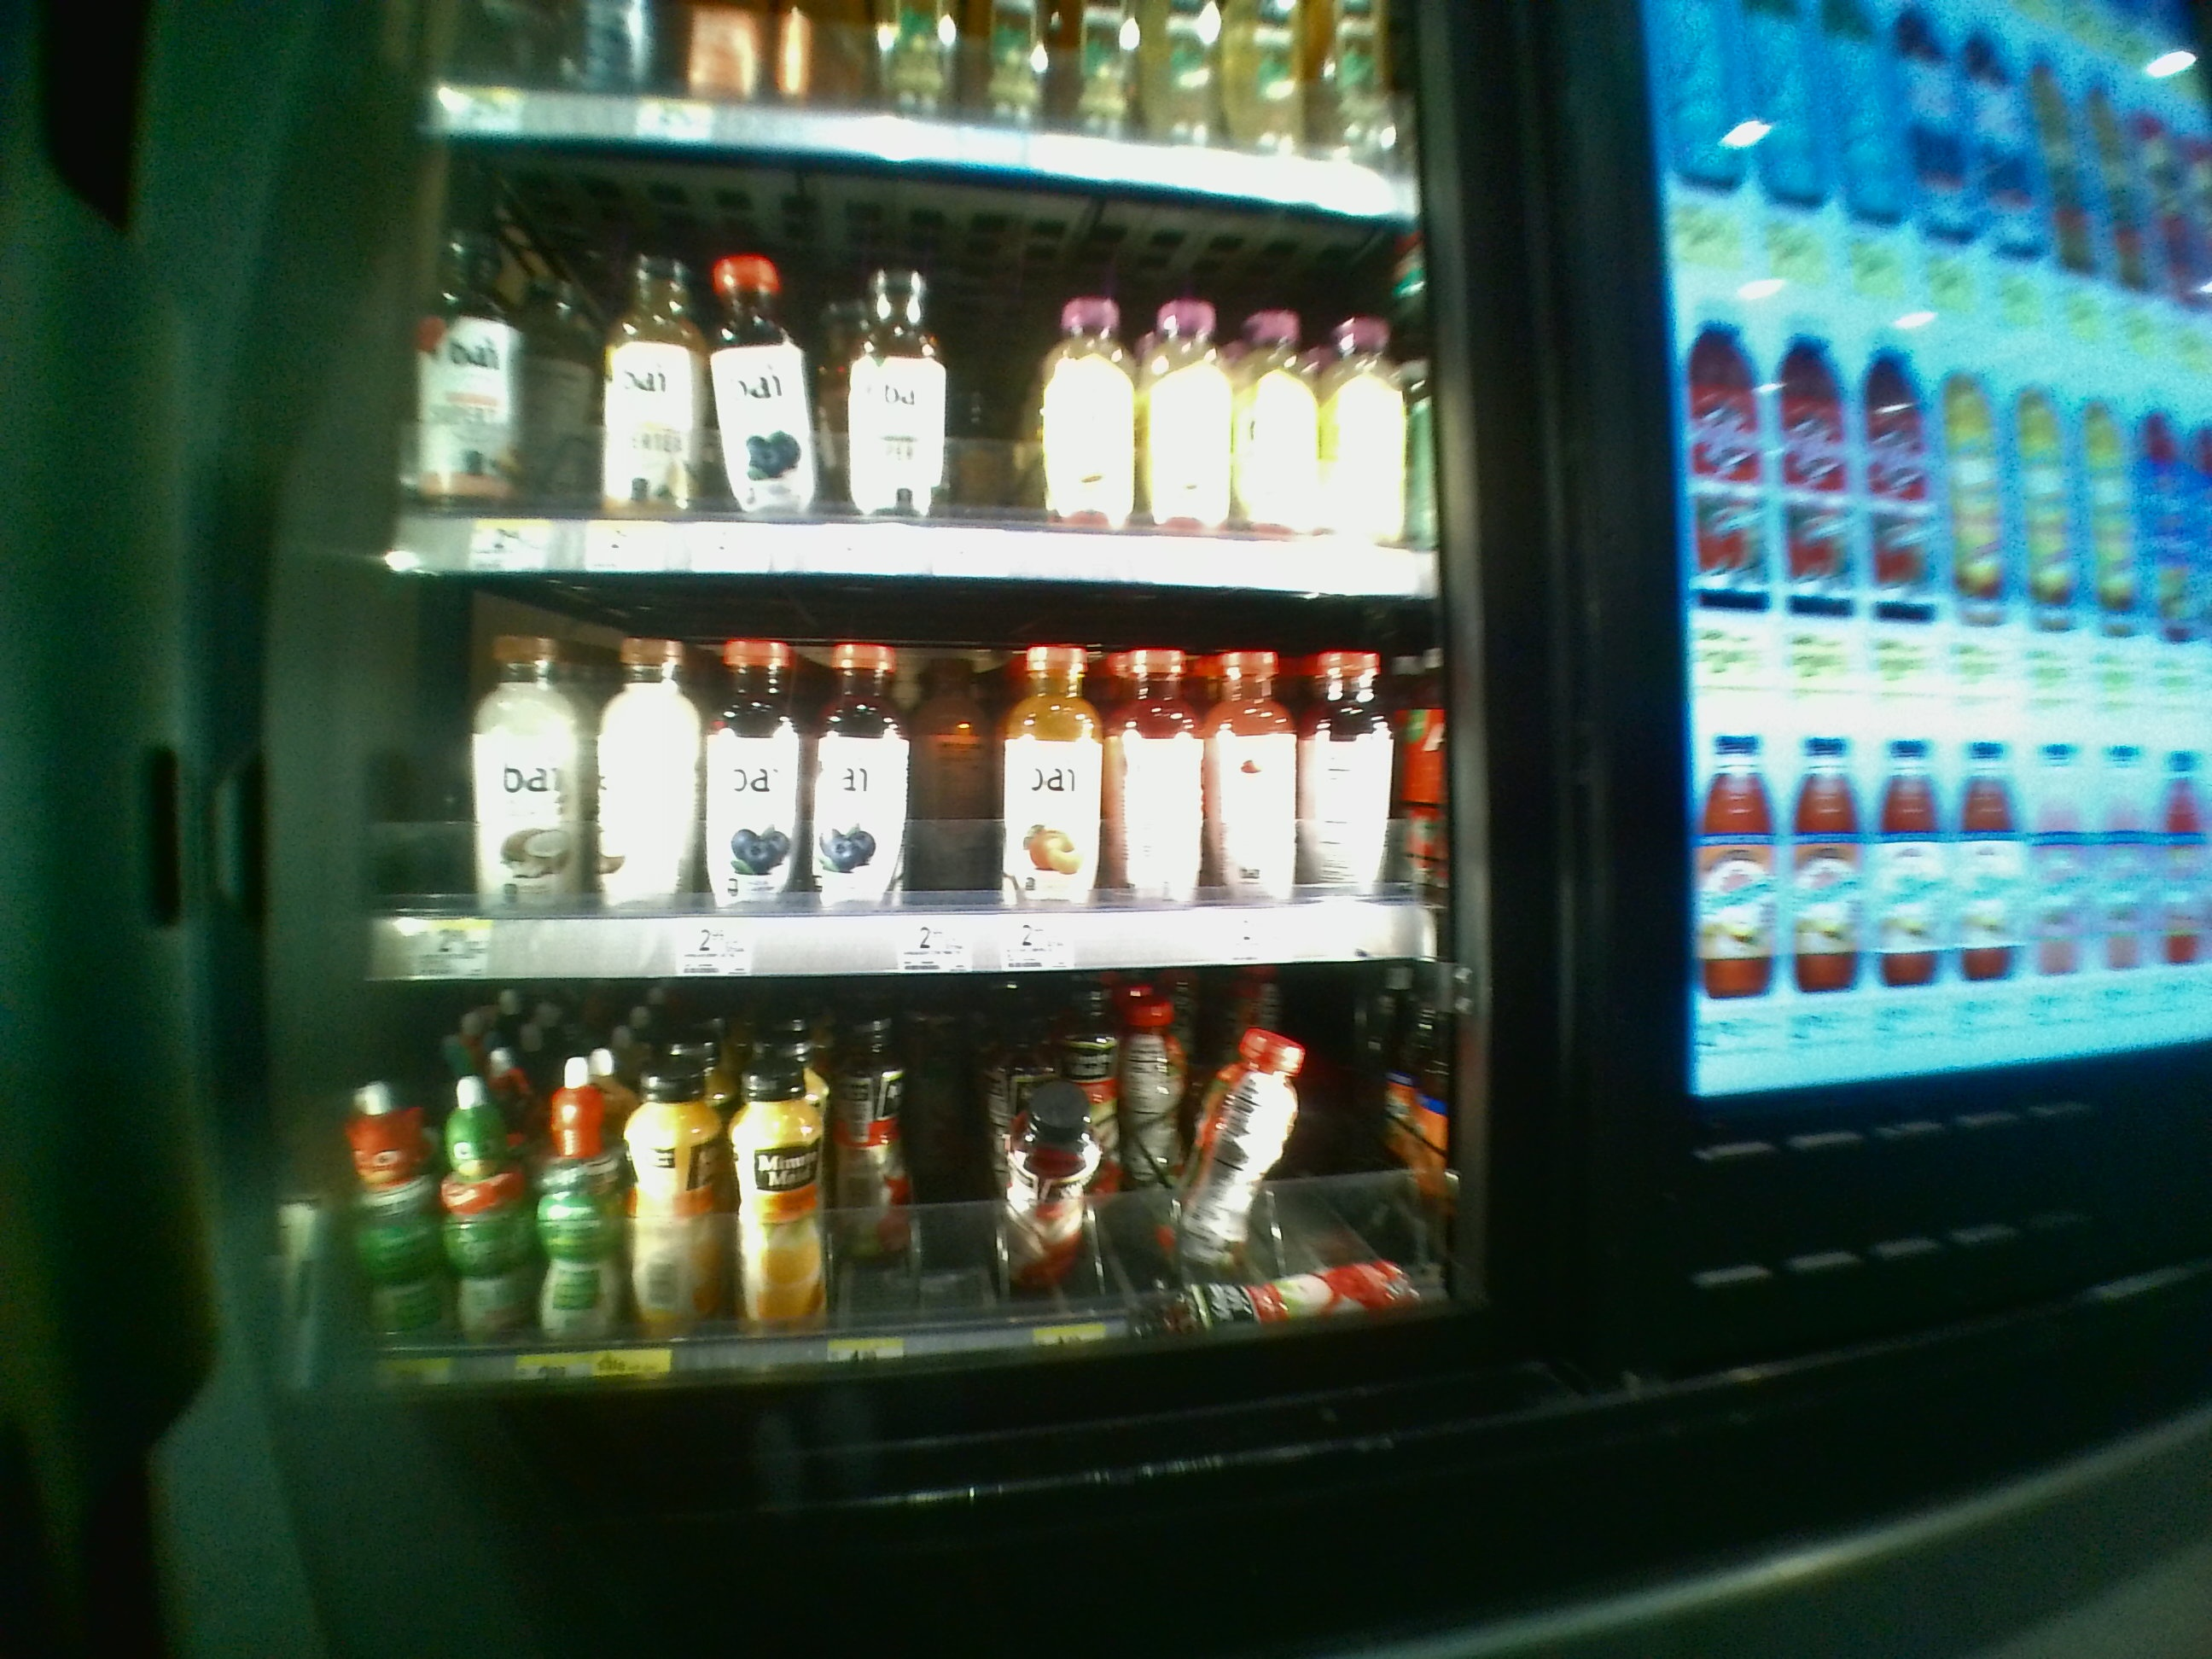shelf: (364, 139, 1446, 582), (354, 997, 1465, 1406), (366, 592, 1456, 978)
